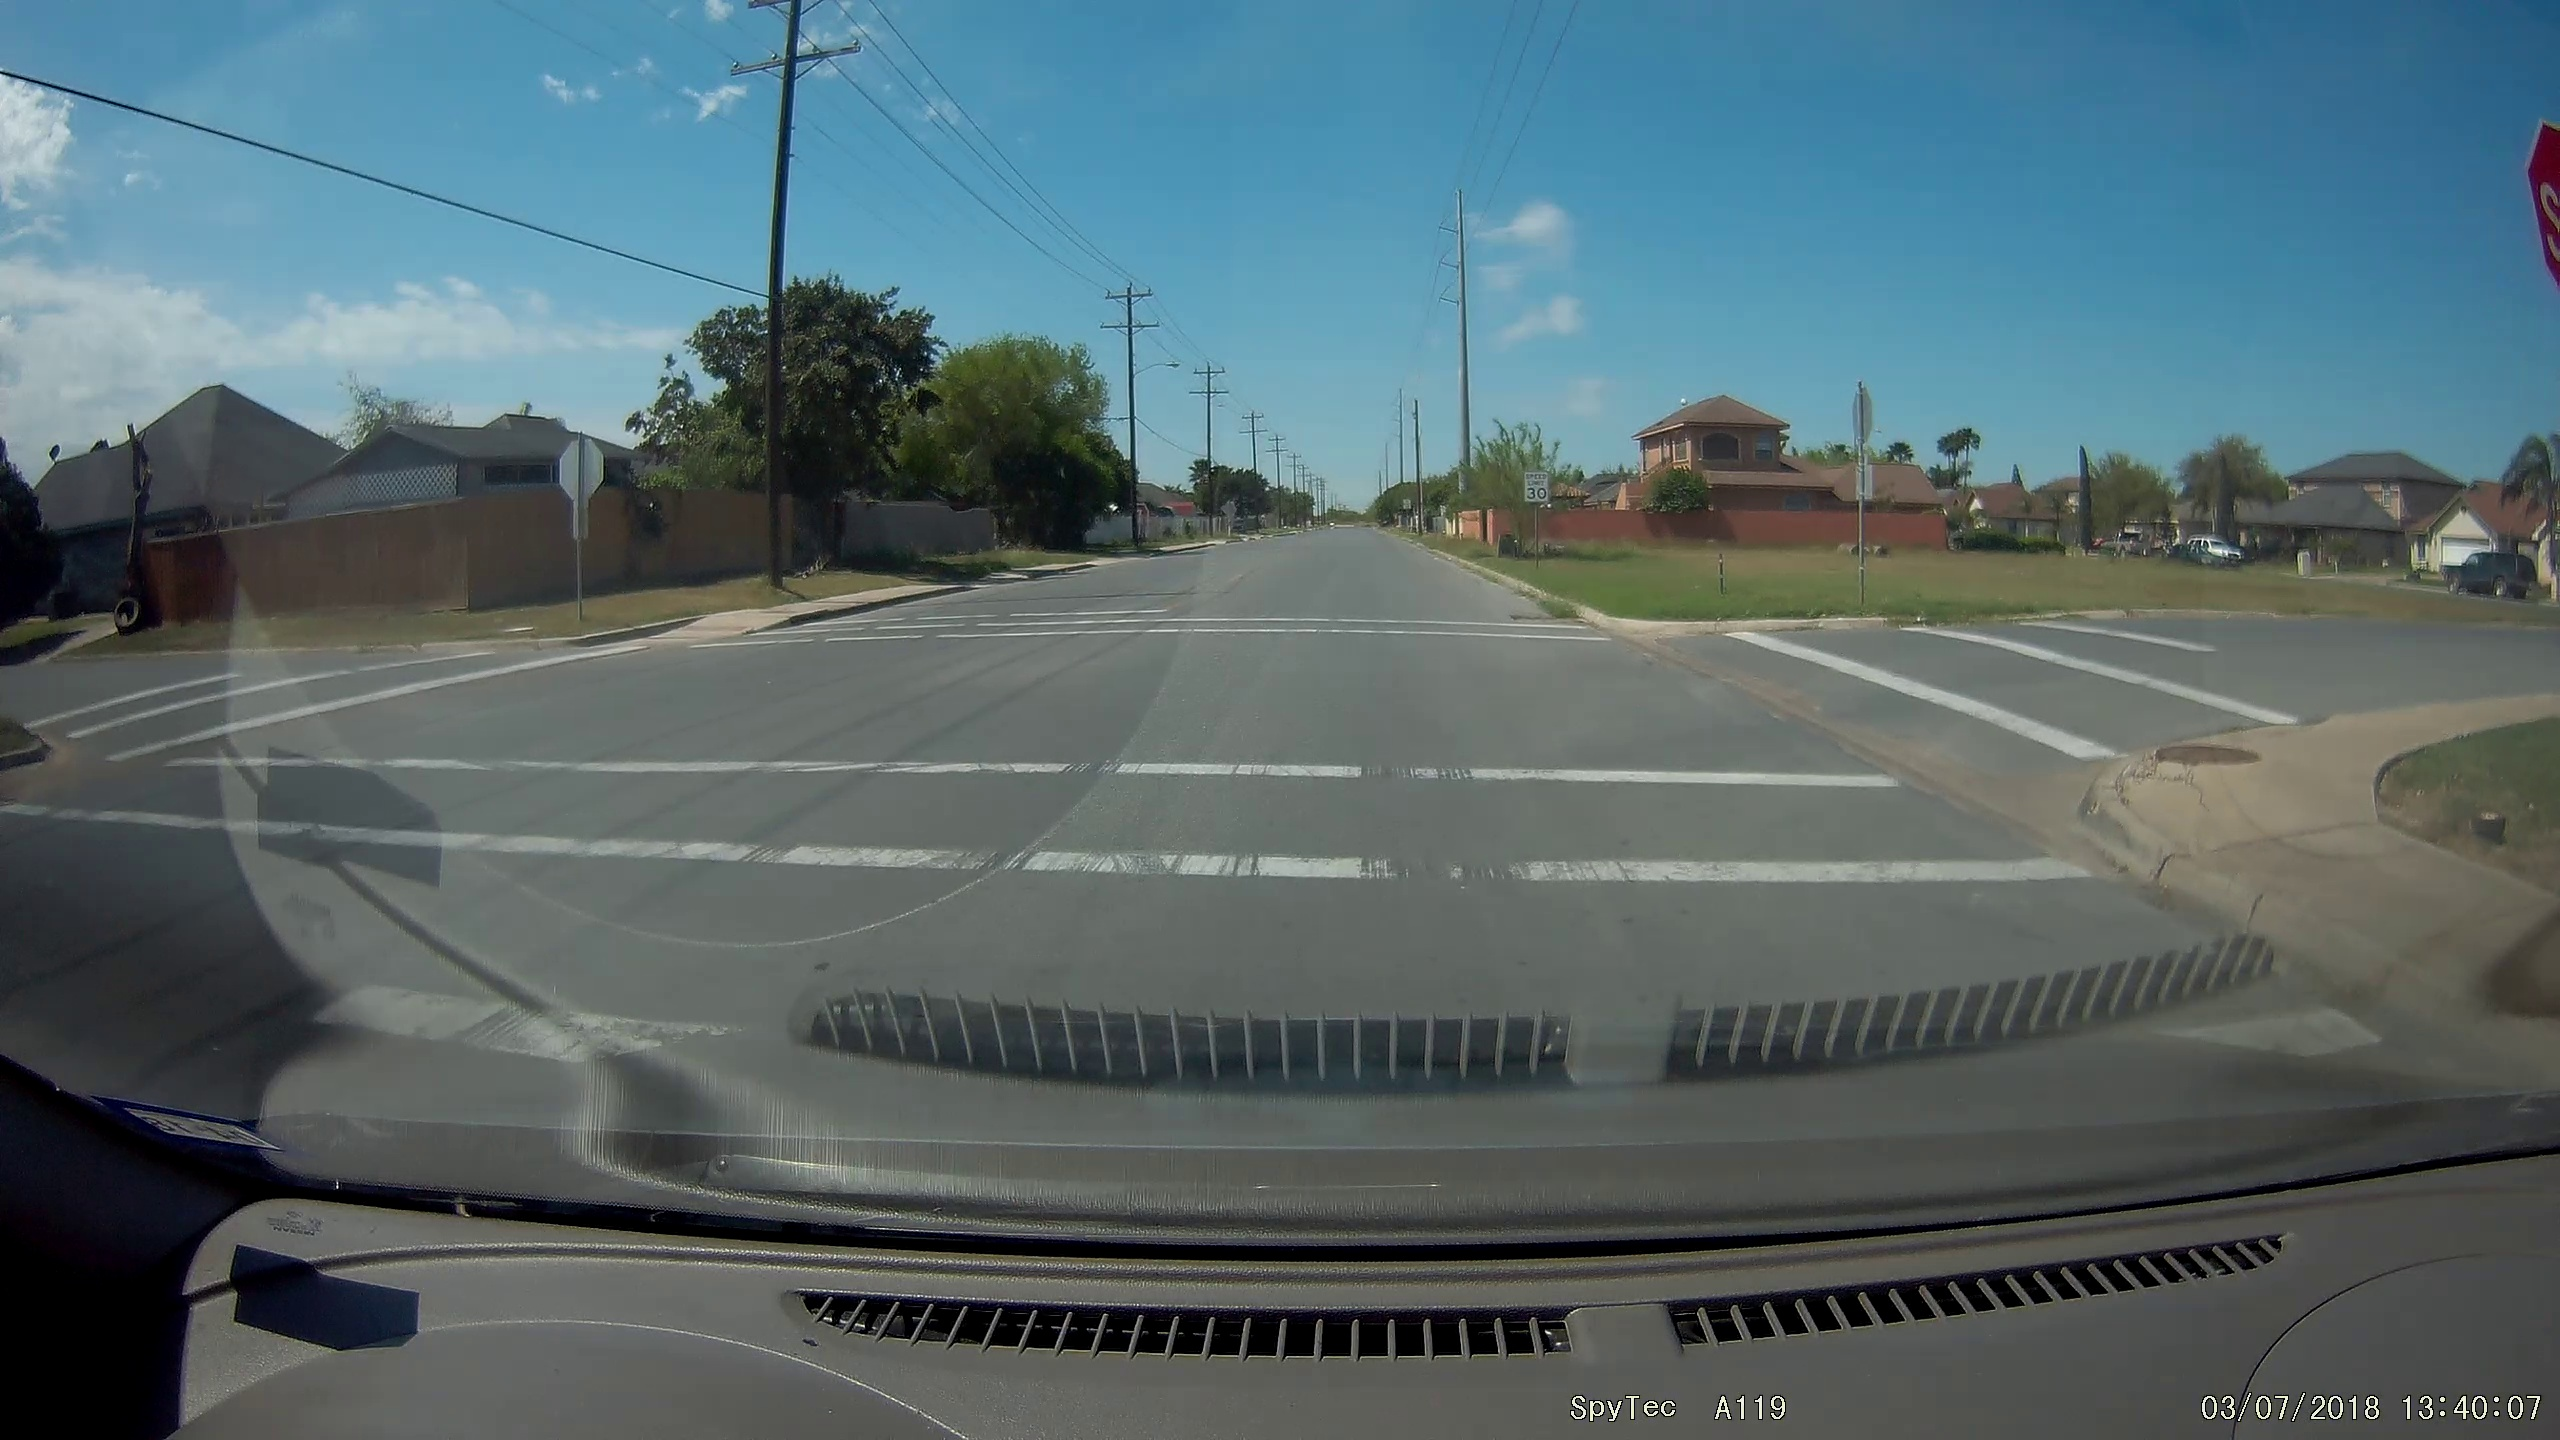blurredLine: (742, 733, 1600, 886)
